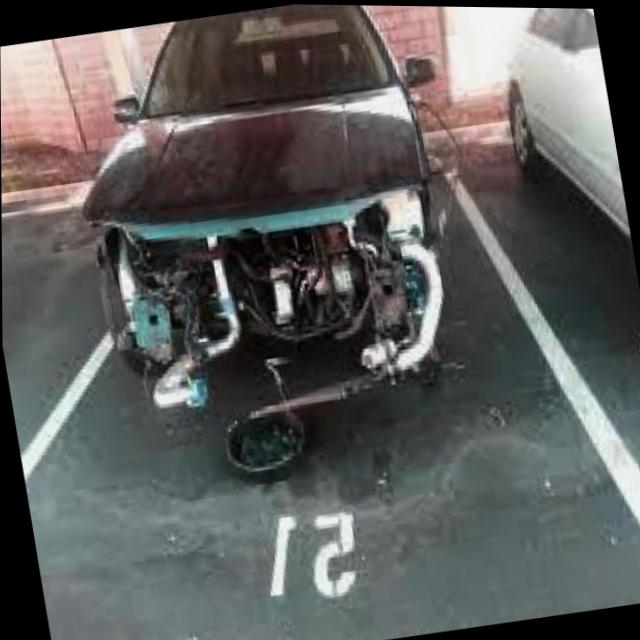Car-Damage: (79, 156, 462, 435)
